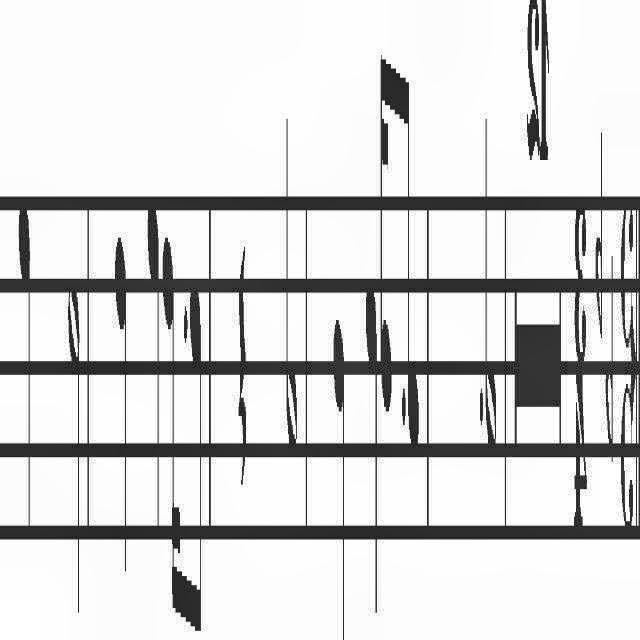Bemol: (593, 75, 607, 372), (604, 250, 618, 466)
Eighth-note: (405, 68, 423, 468), (188, 260, 206, 640)
Half-note: (484, 66, 504, 482), (14, 153, 34, 535), (281, 91, 299, 503), (66, 256, 82, 640)
Quarter-note: (110, 212, 130, 588), (328, 300, 348, 640), (145, 170, 163, 544), (364, 268, 380, 626)
Quarter-rest: (235, 213, 249, 474)
Sixteenth-note: (162, 215, 182, 640), (378, 41, 394, 436)
